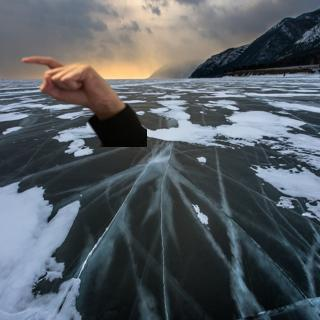WHY: (15, 51, 123, 115)
